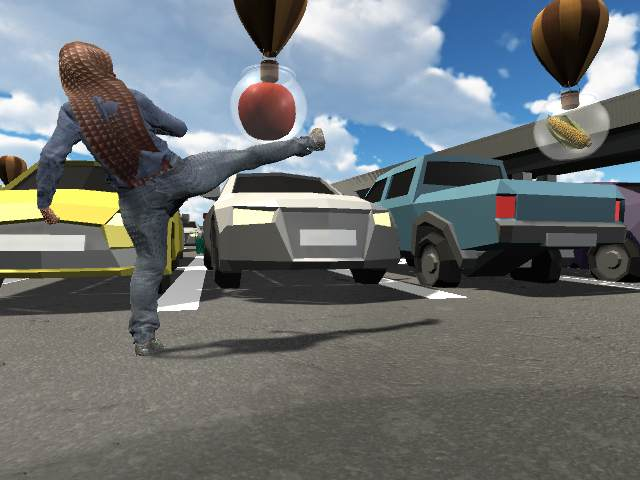turn_right: (34, 41, 326, 355)
